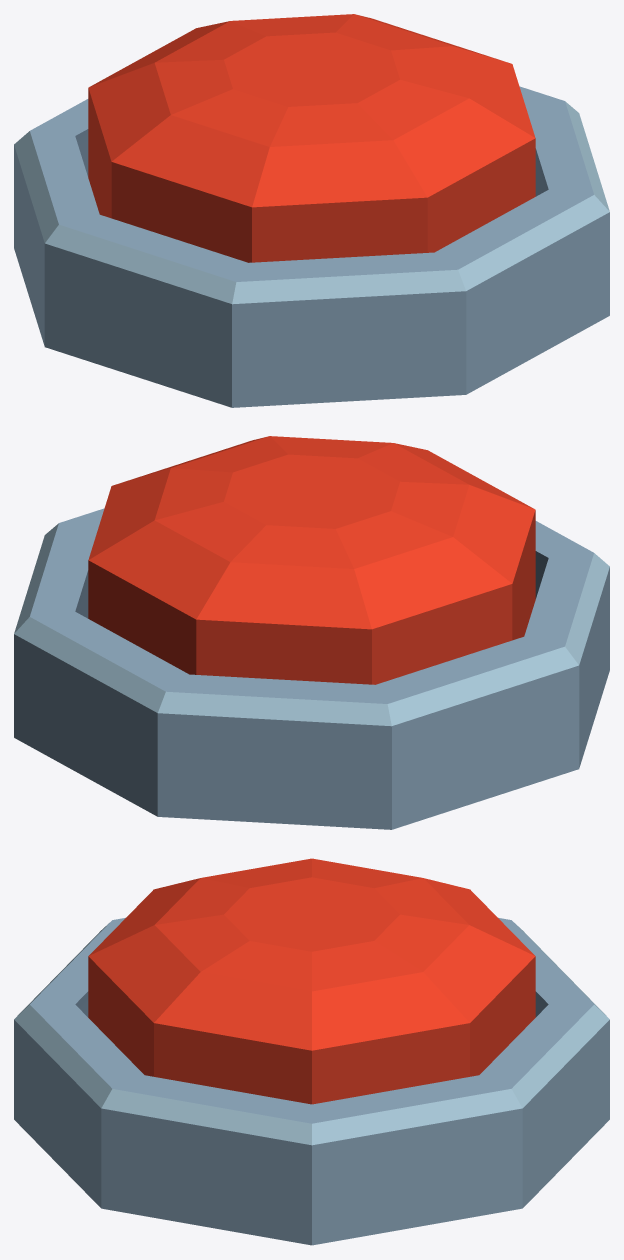
Rendered from Red Button.glb.
The picture shows the model from 3 angles, top to bottom: view 1: azimuth 30°, elevation 25°; view 2: azimuth 150°, elevation 25°; view 3: azimuth 270°, elevation 25°; orthographic projection. The views are drawn at different scales.
Visible parts, largest first — view 1: Base_Button, Button; view 2: Base_Button, Button; view 3: Base_Button, Button.
Boxes of the visible parts, box(x1,y1,x2,y2) form: Base_Button: box(14, 86, 609, 407); Button: box(88, 14, 535, 262); Base_Button: box(14, 508, 609, 829); Button: box(88, 436, 535, 684); Base_Button: box(14, 917, 609, 1245); Button: box(88, 858, 535, 1104).
Size of what is drawn, in the model's own units: 0.272 by 0.1032 by 0.272.
1 material, 1 textured.
